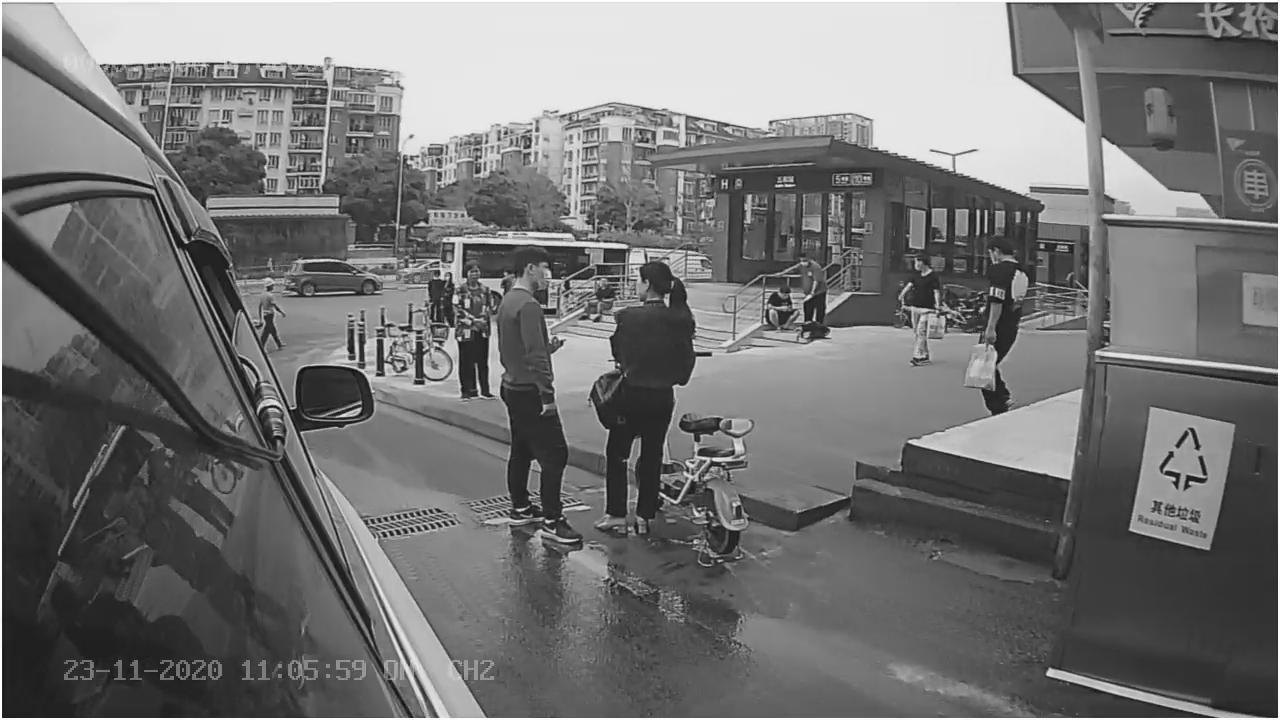person: (490, 247, 590, 553)
